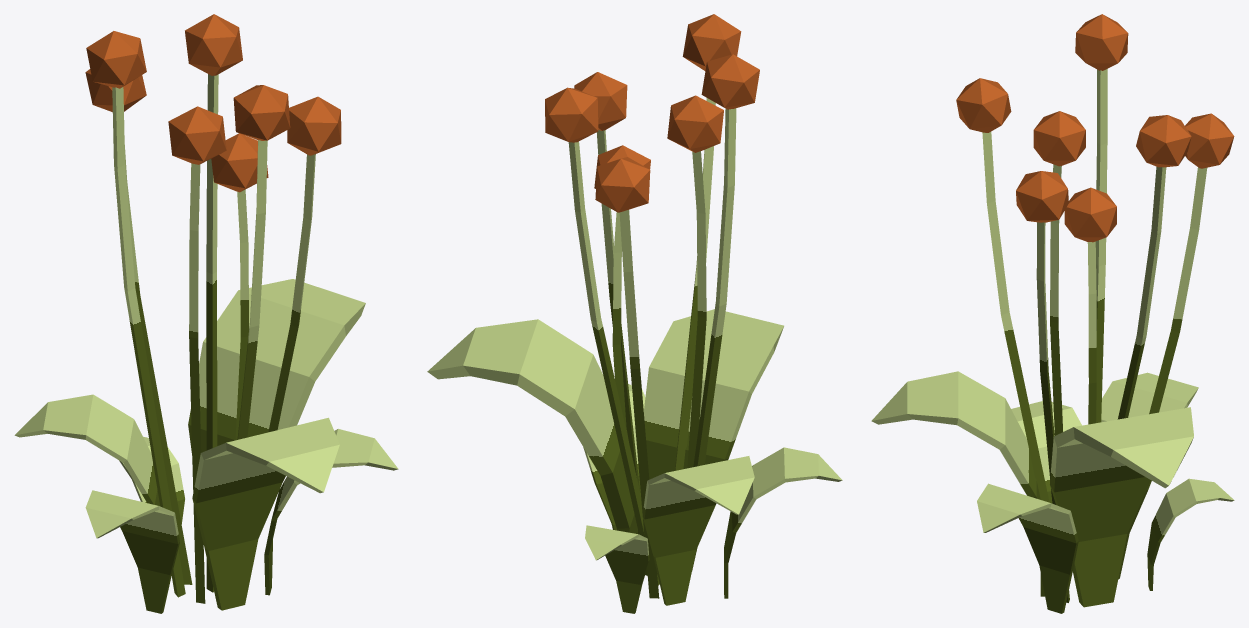
The model's file is RedFlowers.glb.
3 views of the same model, side by side, from view 1: azimuth 30°, elevation 25°; view 2: azimuth 150°, elevation 25°; view 3: azimuth 270°, elevation 25° (orthographic). The views are drawn at different scales.
Visible parts, largest first — view 1: Tree.073; view 2: Tree.073; view 3: Tree.073.
Boxes of the visible parts, x1,y1,x2,y2 form: Tree.073: [14, 14, 398, 613]; Tree.073: [427, 14, 842, 613]; Tree.073: [871, 14, 1234, 613].
Size of the model in its own units: 0.3531 by 0.5639 by 0.3456.
Materials: 1 (1 with a texture image).
